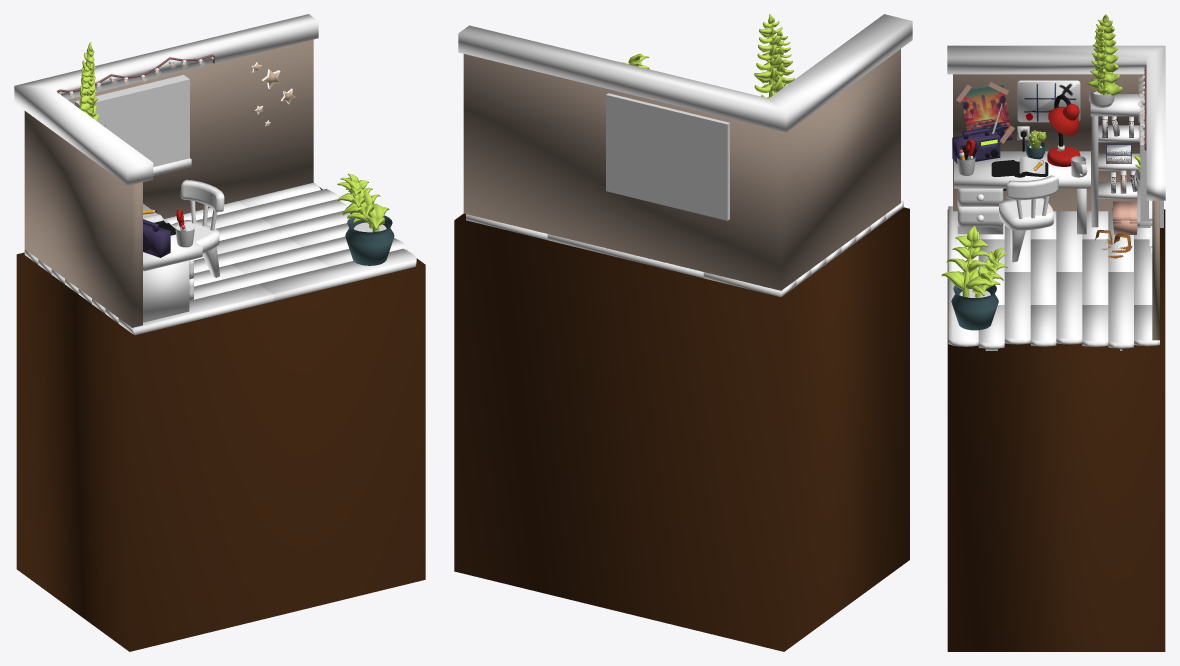
Rendered from iteration2.glb.
3 renders of one model, left to right at view 1: azimuth 30°, elevation 25°; view 2: azimuth 150°, elevation 25°; view 3: azimuth 270°, elevation 25°, orthographic. The views are drawn at different scales.
Parts seen in each view (by area): view 1: Plane, Plane.001, Plane.017, Plane.002, Cube, Plane.005, Circle, Plane.003, Plane.012, Plane.018, Plane.006, Vert.009; view 2: Plane, Plane.001, Plane.002, Cube, Plane.017, Vert.010; view 3: Plane, Plane.017, Plane.002, Plane.001, Plane.003, Plane.010, Plane.011, Plane.009, Circle, Vert.010, Plane.006, Plane.012 (+14 smaller).
Boxes of the visible parts, bbox=[...] form: Plane: bbox=[16, 187, 425, 651]; Plane.001: bbox=[24, 39, 313, 327]; Plane.017: bbox=[24, 183, 416, 335]; Plane.002: bbox=[14, 14, 318, 185]; Cube: bbox=[75, 75, 189, 166]; Plane.005: bbox=[143, 260, 189, 322]; Circle: bbox=[345, 215, 394, 265]; Plane.003: bbox=[143, 203, 202, 271]; Plane.012: bbox=[180, 179, 224, 211]; Plane.018: bbox=[143, 223, 170, 257]; Plane.006: bbox=[172, 220, 219, 253]; Vert.009: bbox=[79, 59, 99, 121]; Plane: bbox=[454, 207, 909, 651]; Plane.001: bbox=[463, 49, 900, 290]; Plane.002: bbox=[458, 14, 912, 132]; Cube: bbox=[606, 93, 729, 220]; Plane.017: bbox=[466, 200, 903, 296]; Vert.010: bbox=[754, 14, 786, 98]; Plane: bbox=[947, 209, 1165, 651]; Plane.017: bbox=[948, 206, 1159, 350]; Plane.002: bbox=[947, 45, 1165, 200]; Plane.001: bbox=[953, 74, 1159, 340]; Plane.003: bbox=[954, 151, 1090, 188]; Plane.010: bbox=[1017, 80, 1080, 122]; Plane.011: bbox=[960, 85, 1012, 140]; Plane.009: bbox=[1098, 125, 1139, 198]; Circle: bbox=[951, 285, 998, 330]; Vert.010: bbox=[1087, 14, 1122, 96]; Plane.006: bbox=[999, 198, 1053, 230]; Plane.012: bbox=[1006, 175, 1058, 199].
Size of the model in its own units: 12.85 by 22.12 by 8.66.
31 materials, 2 textured.
